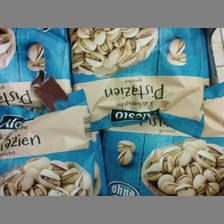Nuss: (67, 26, 205, 138), (97, 84, 223, 196), (0, 90, 104, 193)
